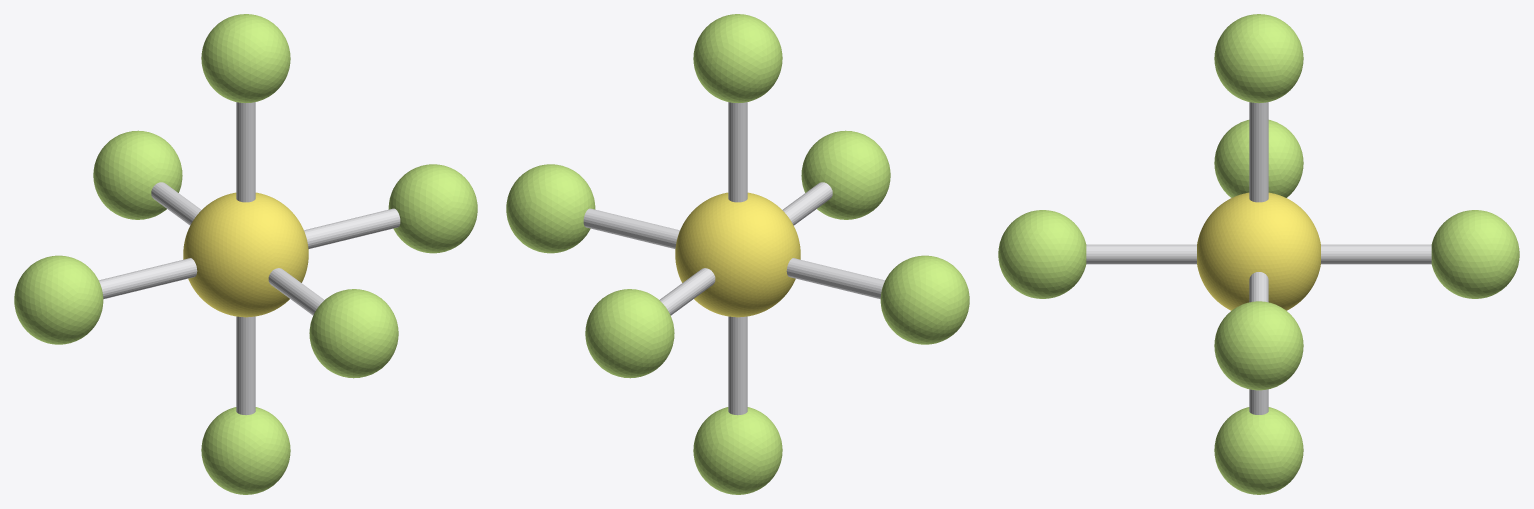
3 views of the same model, side by side, from view 1: azimuth 30°, elevation 25°; view 2: azimuth 150°, elevation 25°; view 3: azimuth 270°, elevation 25° (orthographic).
Parts seen in each view (by area): view 1: S_centre, F_3, F_0, F_4, F_1, F_2, F_5, bond_0, bond_3, bond_1, bond_2, bond_4 (+1 smaller); view 2: S_centre, F_3, F_0, F_5, F_1, F_2, F_4, bond_0, bond_3, bond_1, bond_2, bond_5 (+1 smaller); view 3: S_centre, F_2, F_0, F_4, F_5, F_1, F_3, bond_4, bond_5, bond_0, bond_2.
Part boxes in pixels (box(x1,y1,x2,y2)): S_centre: box(183, 192, 308, 317); F_3: box(14, 255, 103, 344); F_0: box(201, 14, 290, 103); F_4: box(309, 289, 398, 378); F_1: box(201, 407, 290, 494); F_2: box(388, 164, 477, 253); F_5: box(93, 130, 182, 219); bond_0: box(236, 102, 255, 202); bond_3: box(99, 258, 197, 299); bond_1: box(236, 316, 255, 415); bond_2: box(304, 208, 400, 248); bond_4: box(268, 268, 324, 315); S_centre: box(675, 192, 800, 317); F_3: box(880, 255, 969, 344); F_0: box(693, 14, 782, 103); F_5: box(585, 289, 674, 378); F_1: box(693, 407, 782, 494); F_2: box(506, 164, 595, 253); F_4: box(801, 130, 890, 219); bond_0: box(728, 102, 747, 202); bond_3: box(786, 258, 884, 299); bond_1: box(728, 316, 747, 415); bond_2: box(583, 208, 679, 248); bond_5: box(659, 268, 715, 315); S_centre: box(1197, 192, 1320, 310); F_2: box(1214, 301, 1303, 390); F_0: box(1214, 14, 1303, 103); F_4: box(998, 210, 1086, 298); F_5: box(1431, 210, 1519, 298); F_1: box(1214, 407, 1303, 494); F_3: box(1214, 120, 1303, 197); bond_4: box(1086, 244, 1196, 264); bond_5: box(1321, 244, 1431, 264); bond_0: box(1249, 102, 1268, 202); bond_2: box(1249, 272, 1268, 302).
Bounding box in the file's own units: 0.374 × 0.374 × 0.374.
